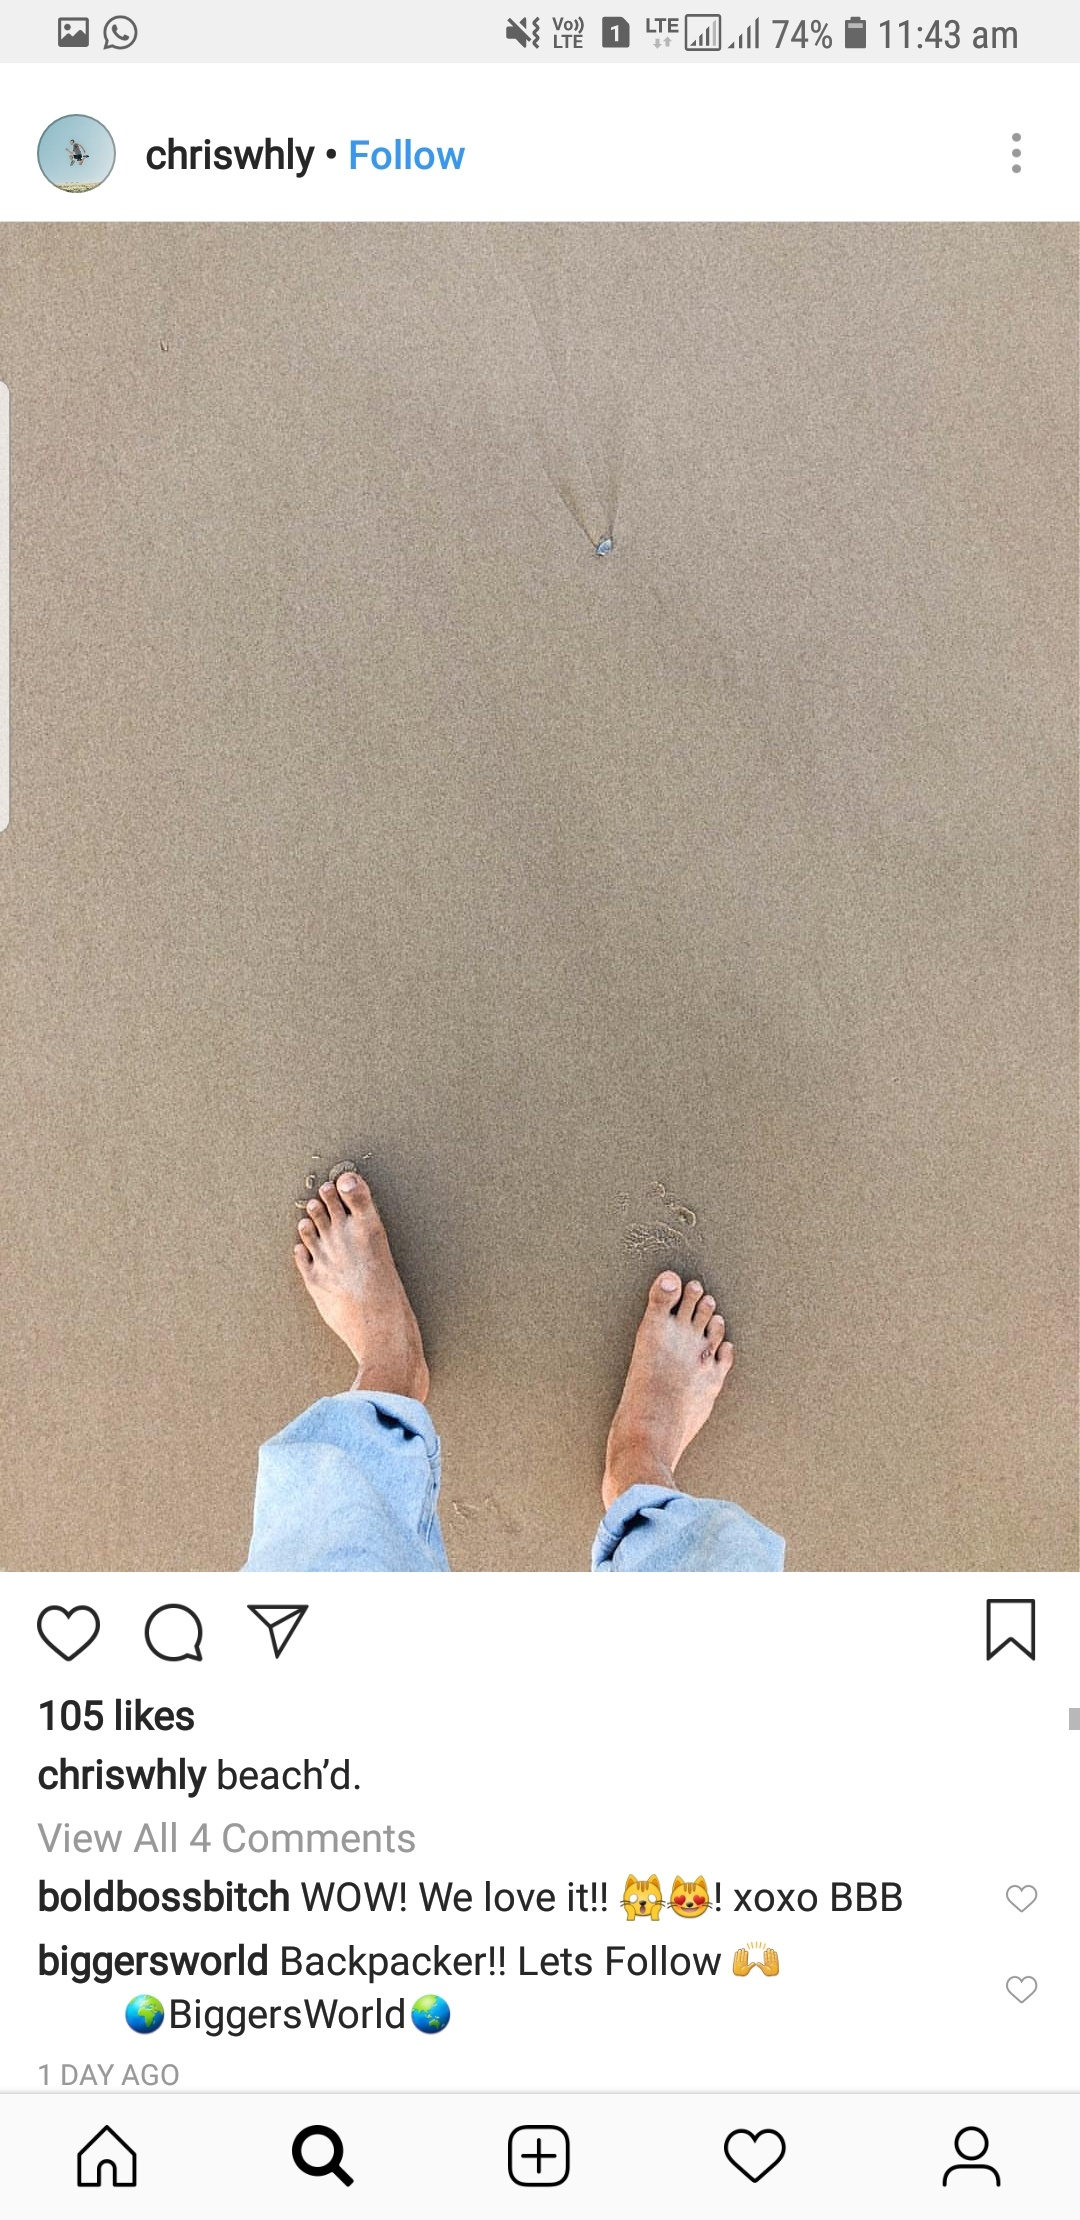feet: (226, 1143, 467, 1407), (539, 1228, 737, 1521)
